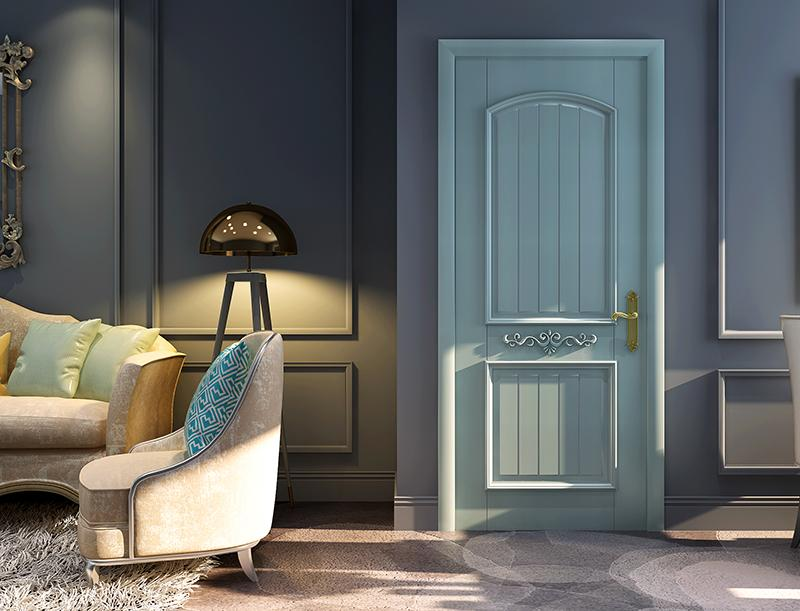door: (443, 44, 661, 534)
